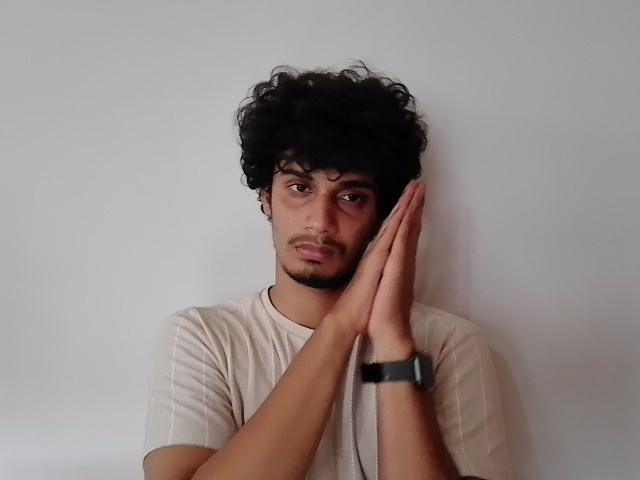sleep: (334, 175, 424, 335)
